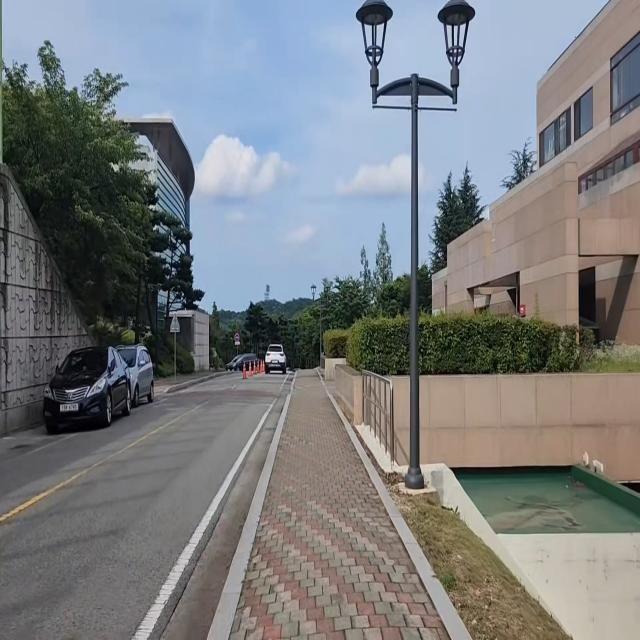obstacle: (38, 341, 156, 436), (262, 338, 290, 378)
road: (0, 375, 295, 640)
sidewalk: (206, 372, 475, 640)
